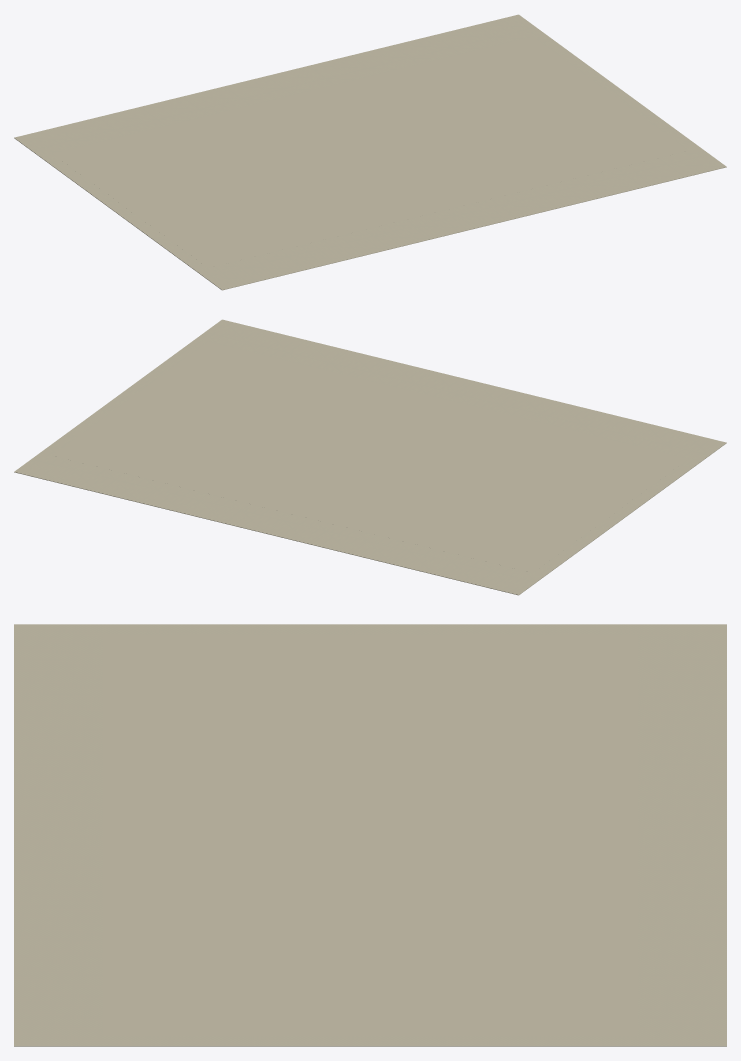
File: E01_AlbumSheet.fbx
3 renders of one model, top to bottom at view 1: azimuth 30°, elevation 25°; view 2: azimuth 150°, elevation 25°; view 3: azimuth 270°, elevation 25°, orthographic. The views are drawn at different scales.
Visible parts, largest first — view 1: Body_Mesh; view 2: Body_Mesh; view 3: Body_Mesh.
Boxes of the visible parts, x1,y1,x2,y2 form: Body_Mesh: (14, 14, 726, 290); Body_Mesh: (14, 319, 726, 595); Body_Mesh: (14, 624, 726, 1046).
Size of the model in its own units: 0.42 by 0.000381 by 0.3.
